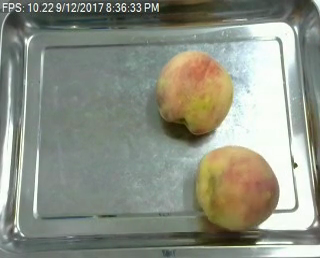Peach: (194, 144, 280, 231), (155, 49, 233, 134)
